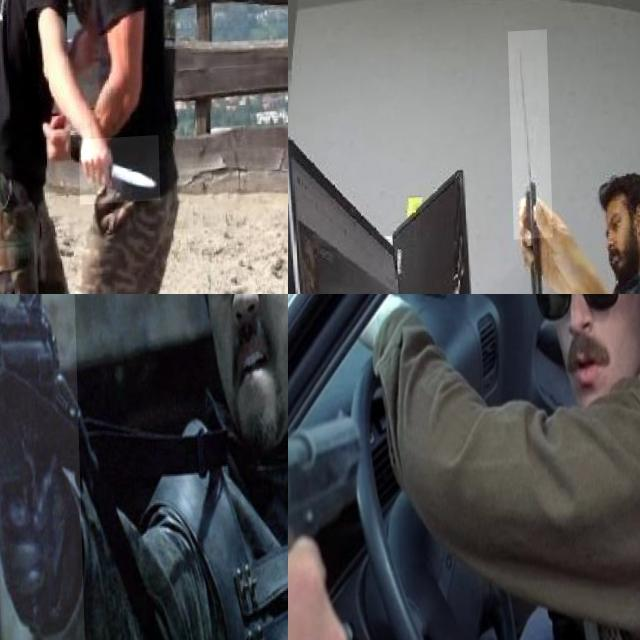-: (507, 34, 551, 244), (76, 140, 158, 208)
gun-knife-thesis - v11 Yolov5 augmented: (0, 294, 90, 640), (288, 406, 377, 640)
